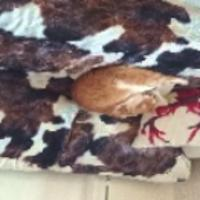asleep: (68, 61, 189, 121)
